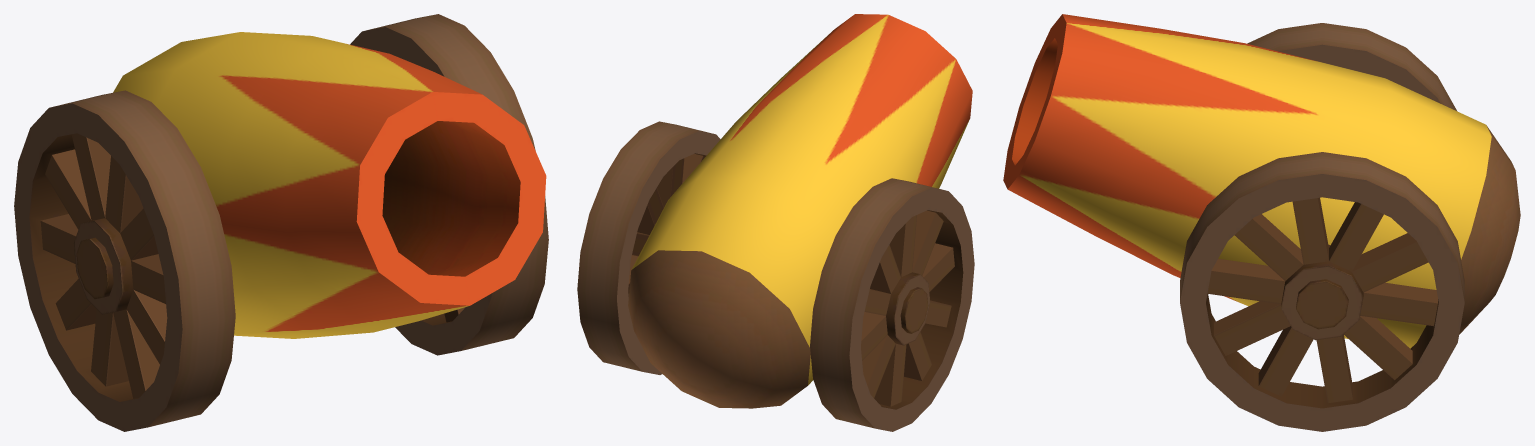
The model's file is canon.fbx.
The picture shows the model from 3 angles, left to right: view 1: azimuth 30°, elevation 25°; view 2: azimuth 150°, elevation 25°; view 3: azimuth 270°, elevation 25°; orthographic projection. The views are drawn at different scales.
Parts seen in each view (by area): view 1: canon; view 2: canon; view 3: canon.
Part boxes in pixels (<box>): canon: <box>14,14,548,431</box>; canon: <box>577,14,974,431</box>; canon: <box>1003,14,1520,431</box>.
Bounding box in the file's own units: 0.4239 × 0.4221 × 0.5934.
Materials: 1 (1 with a texture image).
